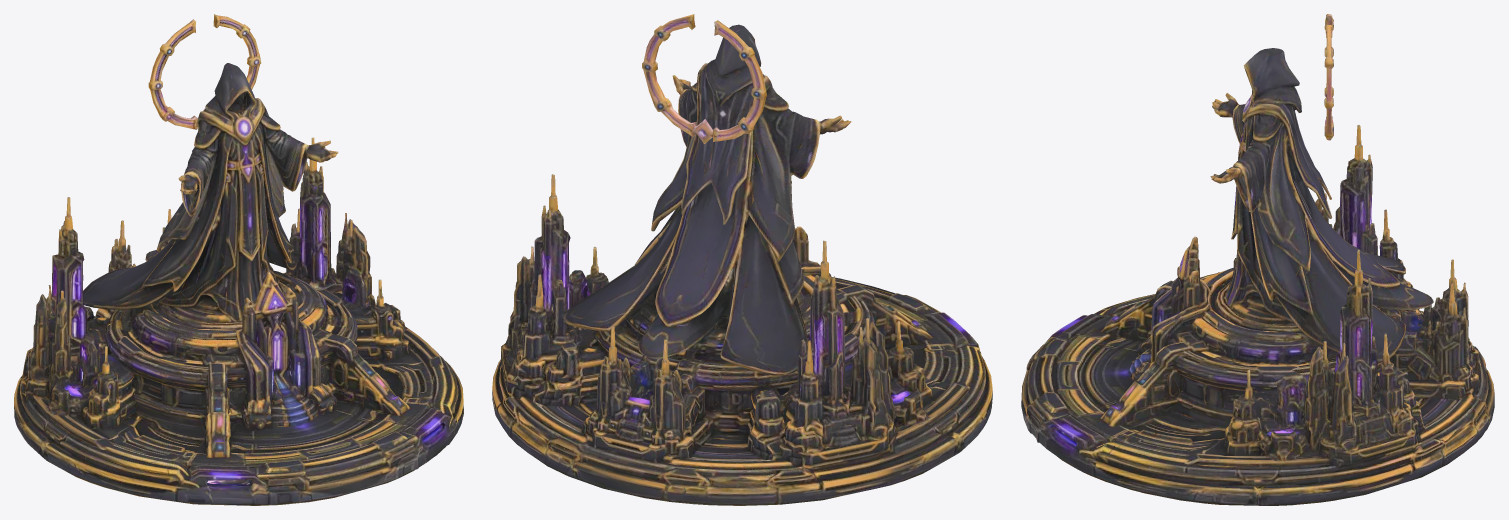
Rendered from eoncity_orientation_hall.2dfff7470233.glb.
3 views of the same model, side by side, from view 1: azimuth 30°, elevation 25°; view 2: azimuth 150°, elevation 25°; view 3: azimuth 270°, elevation 25° (orthographic). The views are drawn at different scales.
Parts seen in each view (by area): view 1: Mesh1.0; view 2: Mesh1.0; view 3: Mesh1.0.
Part boxes in pixels (box(x1,y1,x2,y2)): Mesh1.0: box(14, 14, 463, 505); Mesh1.0: box(492, 14, 992, 505); Mesh1.0: box(1021, 14, 1494, 505).
Size of the model in its own units: 1.9 by 1.72 by 1.9.
1 material, 1 textured.
